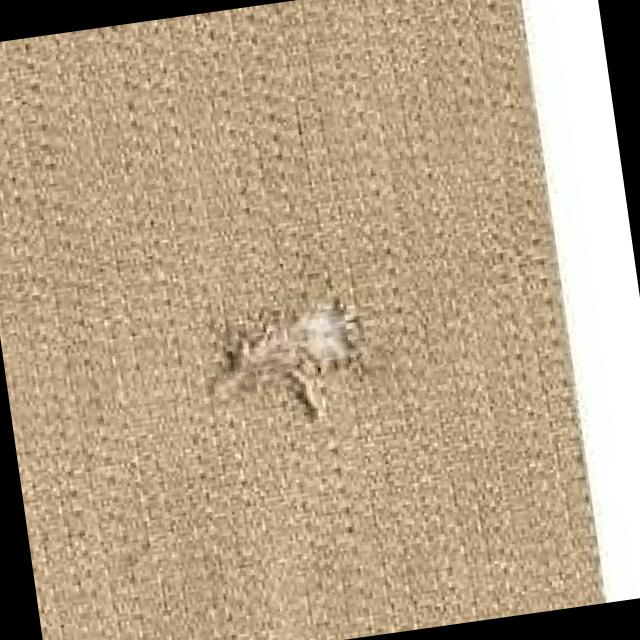hole: (202, 290, 370, 418)
